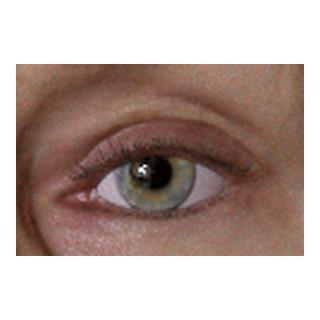pupil: (137, 155, 171, 189)
